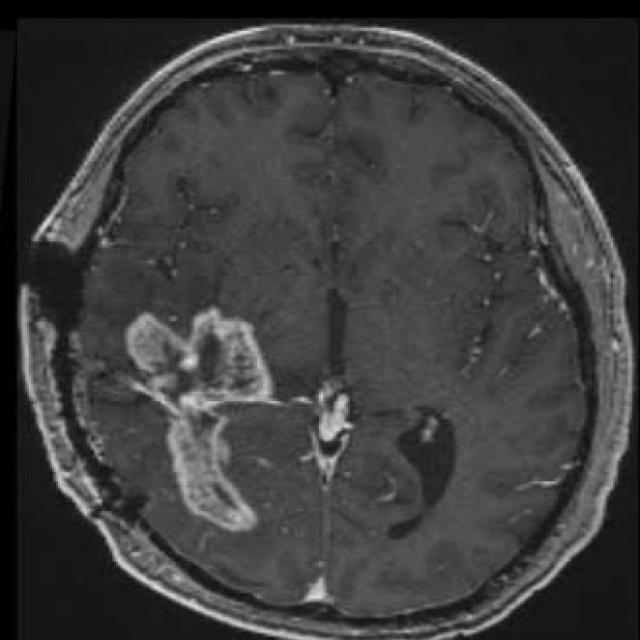glioma: (124, 306, 361, 536)
